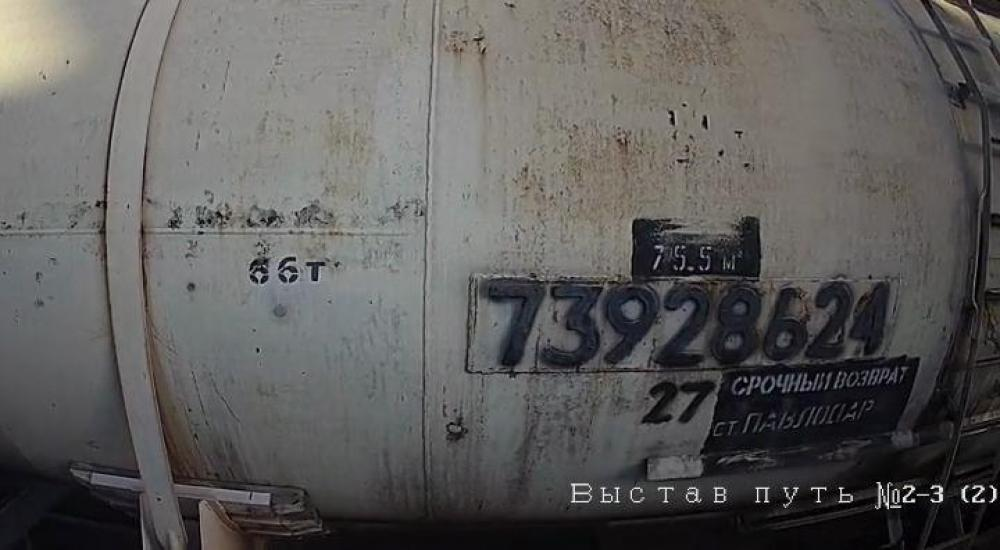Wagon-number: (478, 277, 894, 371)
